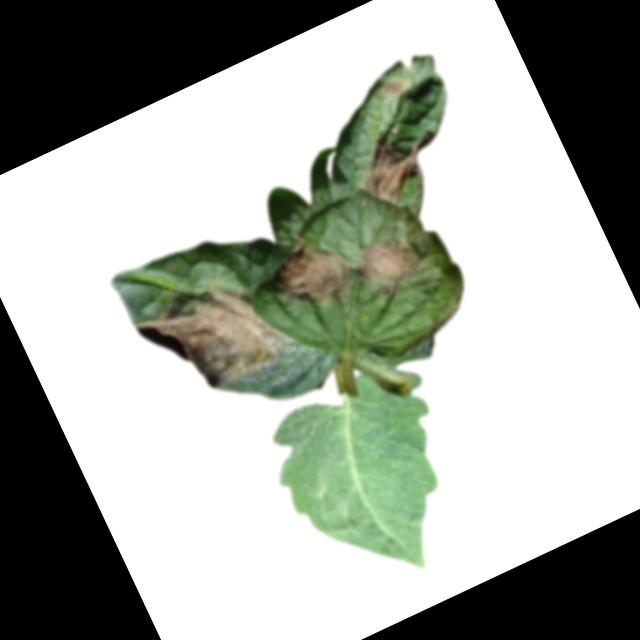Late_blight: (132, 263, 300, 412), (254, 218, 368, 331), (342, 119, 444, 215), (348, 224, 433, 307), (377, 72, 414, 103)
healthy: (252, 352, 495, 609)
